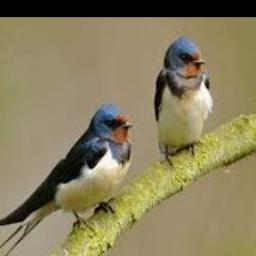Swallow: (0, 105, 134, 256), (153, 37, 213, 159)
